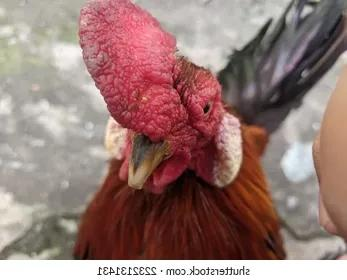AbNormal: (77, 3, 189, 140)
